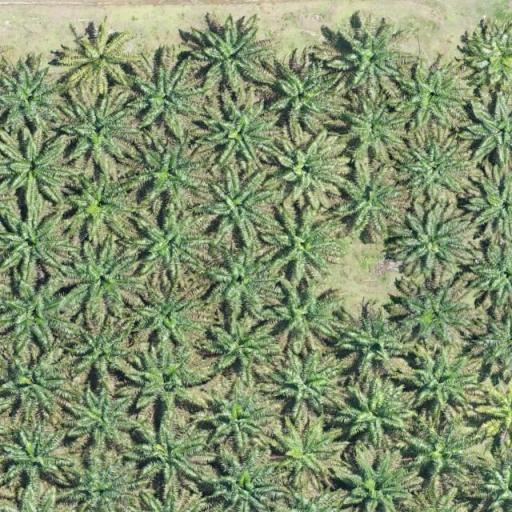Ganoderma: (478, 384, 512, 446)
